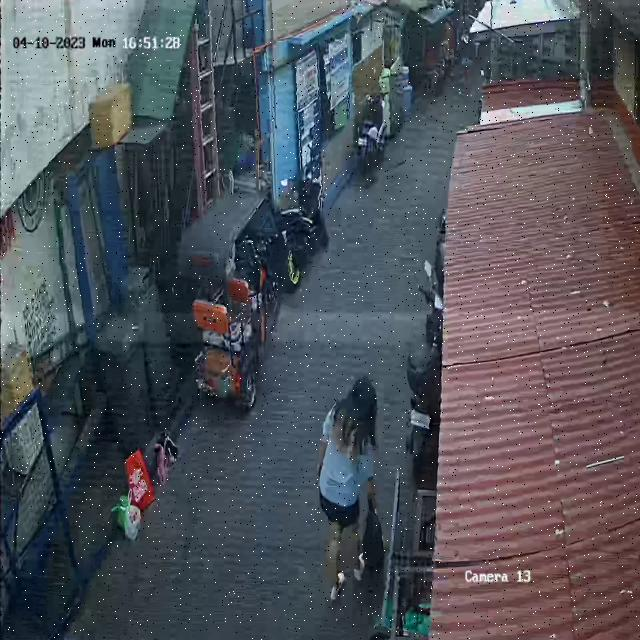garbage_dumping: (362, 483, 388, 577), (121, 443, 155, 512), (148, 427, 182, 482), (118, 488, 143, 548)
